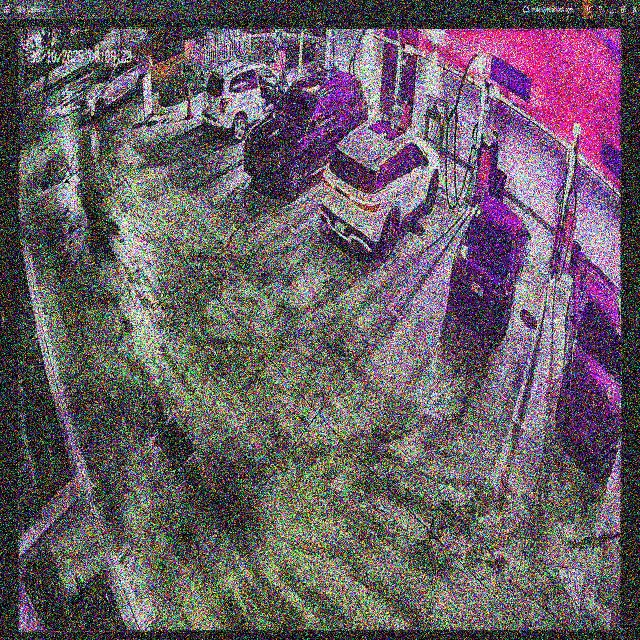Car: (319, 119, 441, 264), (244, 71, 368, 195), (452, 198, 528, 339)
